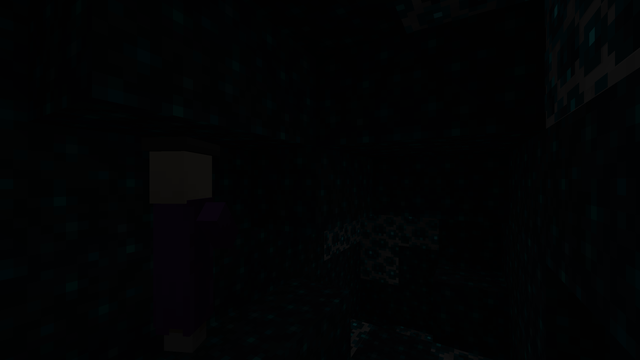sorcieres: (144, 140, 222, 357)
